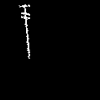treble_crochet: (20, 5, 29, 56)
